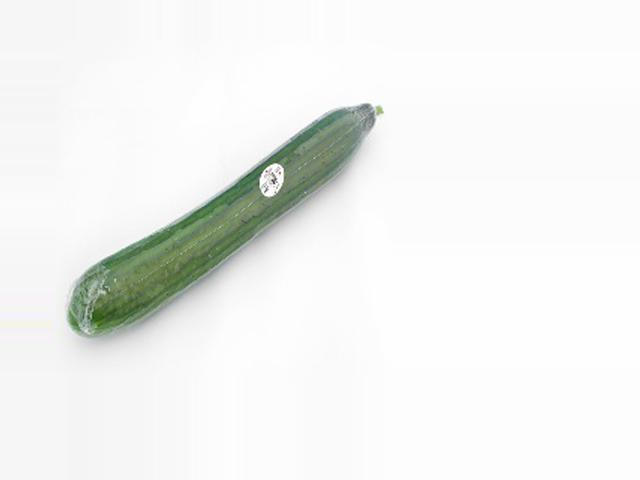cucumber: (69, 102, 383, 334)
